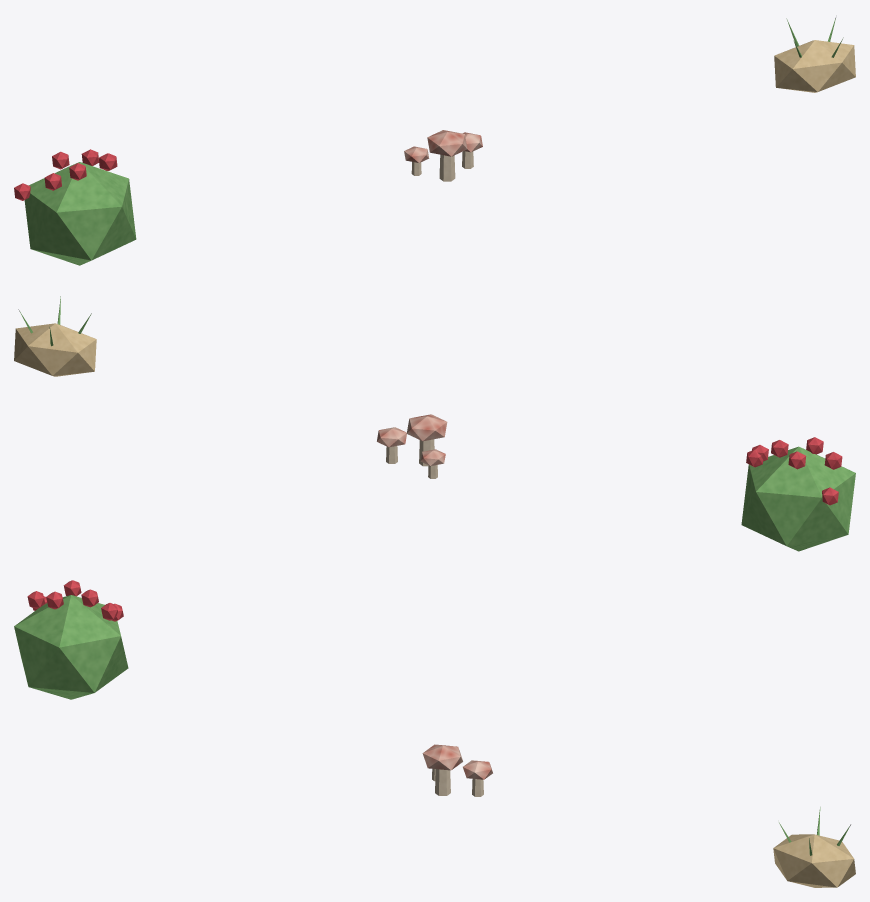
File: food.glb
The picture shows the model from 3 angles, top to bottom: view 1: azimuth 30°, elevation 25°; view 2: azimuth 150°, elevation 25°; view 3: azimuth 330°, elevation 25°; orthographic projection.
Visible parts, largest first — view 1: food_1, food_3, food_2; view 2: food_1, food_3, food_2; view 3: food_1, food_3, food_2.
Part boxes in pixels (left/top/right/bottom): food_1: left=14, top=149, right=136, bottom=265; food_3: left=774, top=18, right=855, bottom=92; food_2: left=404, top=130, right=482, bottom=181; food_1: left=741, top=437, right=855, bottom=551; food_3: left=14, top=296, right=96, bottom=376; food_2: left=377, top=414, right=447, bottom=478; food_1: left=14, top=580, right=128, bottom=699; food_3: left=773, top=807, right=855, bottom=887; food_2: left=422, top=744, right=492, bottom=796.
Bounding box in the file's own units: 13.48 × 1.82 × 1.53.
3 materials, 3 textured.
